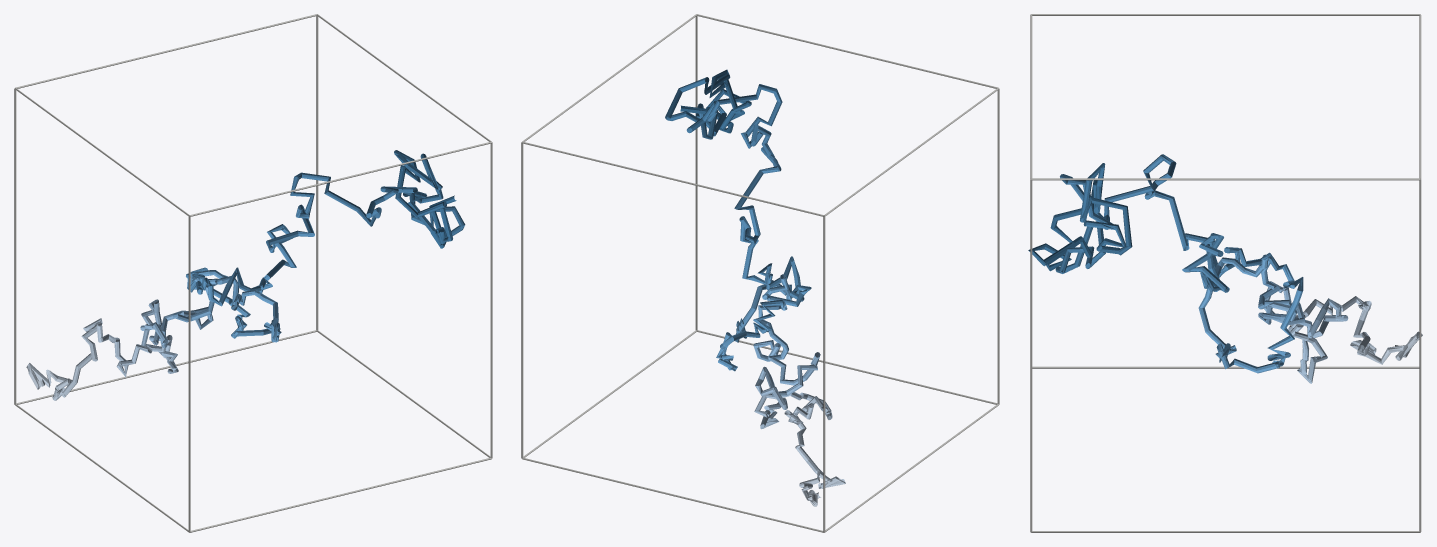
3 views of the same model, side by side, from view 1: azimuth 30°, elevation 25°; view 2: azimuth 150°, elevation 25°; view 3: azimuth 270°, elevation 25° (orthographic). The views are drawn at different scales.
Parts seen in each view (by area): view 1: geometry_0, geometry_1; view 2: geometry_0, geometry_1; view 3: geometry_0, geometry_1.
Boxes of the visible parts, x1,y1,x2,y2 form: geometry_0: [26, 150, 465, 400]; geometry_1: [14, 14, 492, 532]; geometry_0: [665, 69, 845, 506]; geometry_1: [521, 14, 999, 532]; geometry_0: [1028, 154, 1422, 383]; geometry_1: [1030, 14, 1421, 532].
Bounding box in the file's own units: 0.3016 × 0.3014 × 0.3044.
